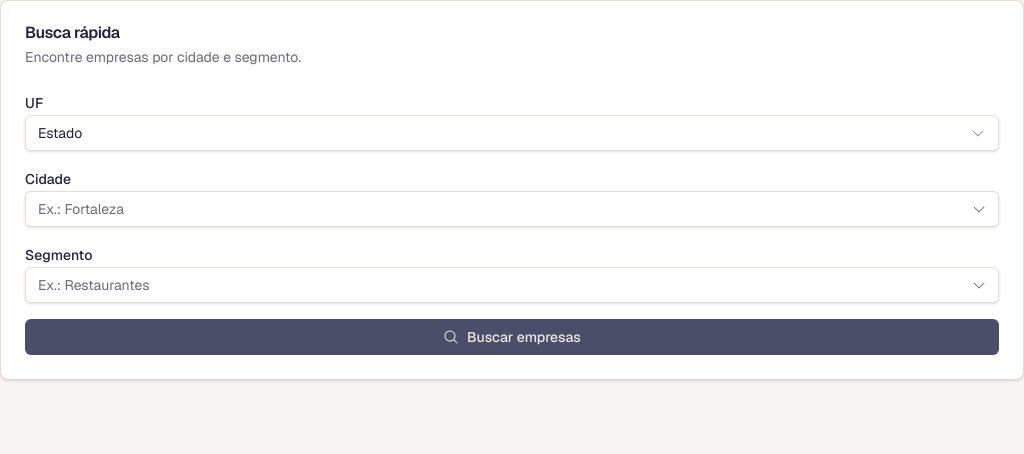
Test: QuickSearchForm › shows validation errors and does not redirect when fields are empty
Click the button "Buscar empresas".
click(512, 337)  # box [25, 319, 999, 355]
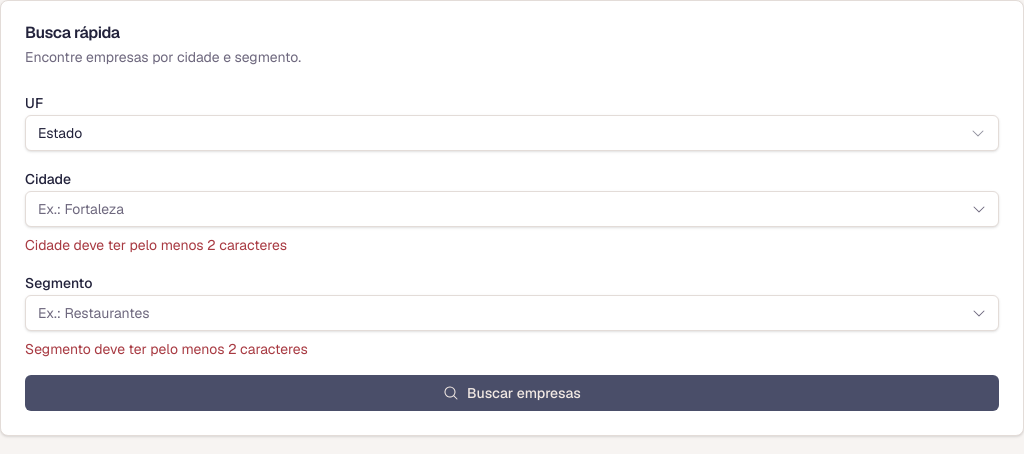
Expected: the text "Cidade deve ter pelo menos 2 caracteres" is shown, [25, 236, 287, 254]
